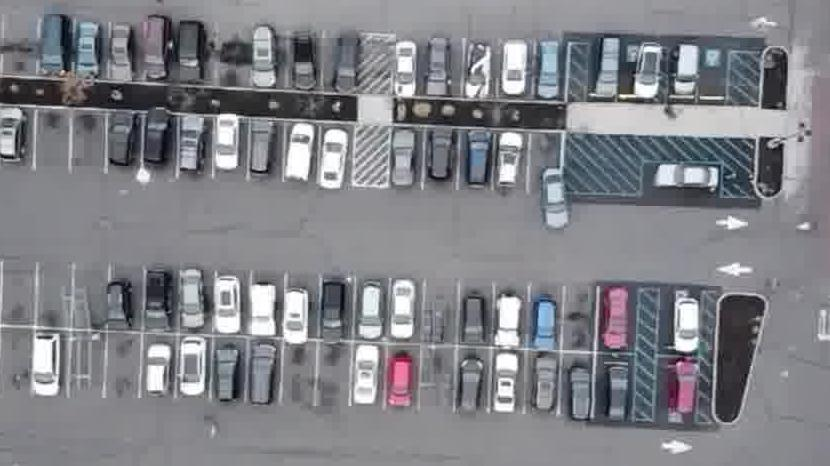car: (348, 342, 386, 409), (28, 330, 63, 400), (36, 11, 72, 76), (173, 19, 208, 84), (315, 126, 350, 191), (650, 160, 721, 192), (139, 13, 170, 82), (104, 110, 140, 169), (490, 354, 523, 418), (246, 344, 278, 410), (174, 338, 208, 400), (494, 129, 527, 192), (140, 106, 173, 169), (210, 343, 242, 406), (318, 281, 349, 346), (332, 30, 363, 94), (282, 124, 315, 184), (280, 287, 314, 345), (142, 269, 173, 332), (140, 339, 171, 402), (246, 120, 278, 181), (602, 285, 632, 350), (540, 168, 569, 233), (388, 276, 417, 341), (250, 22, 278, 89), (455, 354, 486, 414), (386, 353, 417, 413), (602, 358, 631, 422), (248, 281, 280, 339), (632, 42, 665, 98), (354, 278, 382, 344), (212, 275, 242, 336), (389, 128, 418, 190), (427, 126, 457, 185), (462, 129, 491, 190), (492, 291, 523, 348), (500, 38, 529, 98), (423, 36, 452, 96), (566, 361, 594, 423), (178, 114, 207, 173), (669, 358, 698, 417), (592, 36, 621, 94), (73, 20, 102, 78), (105, 278, 135, 334), (673, 296, 701, 355), (534, 39, 561, 100), (292, 28, 318, 91), (391, 38, 418, 98), (178, 266, 203, 330), (465, 41, 493, 98), (532, 354, 559, 413), (215, 113, 241, 174), (670, 43, 699, 96), (530, 297, 559, 350), (108, 22, 133, 83), (0, 106, 26, 164), (462, 295, 486, 348)
